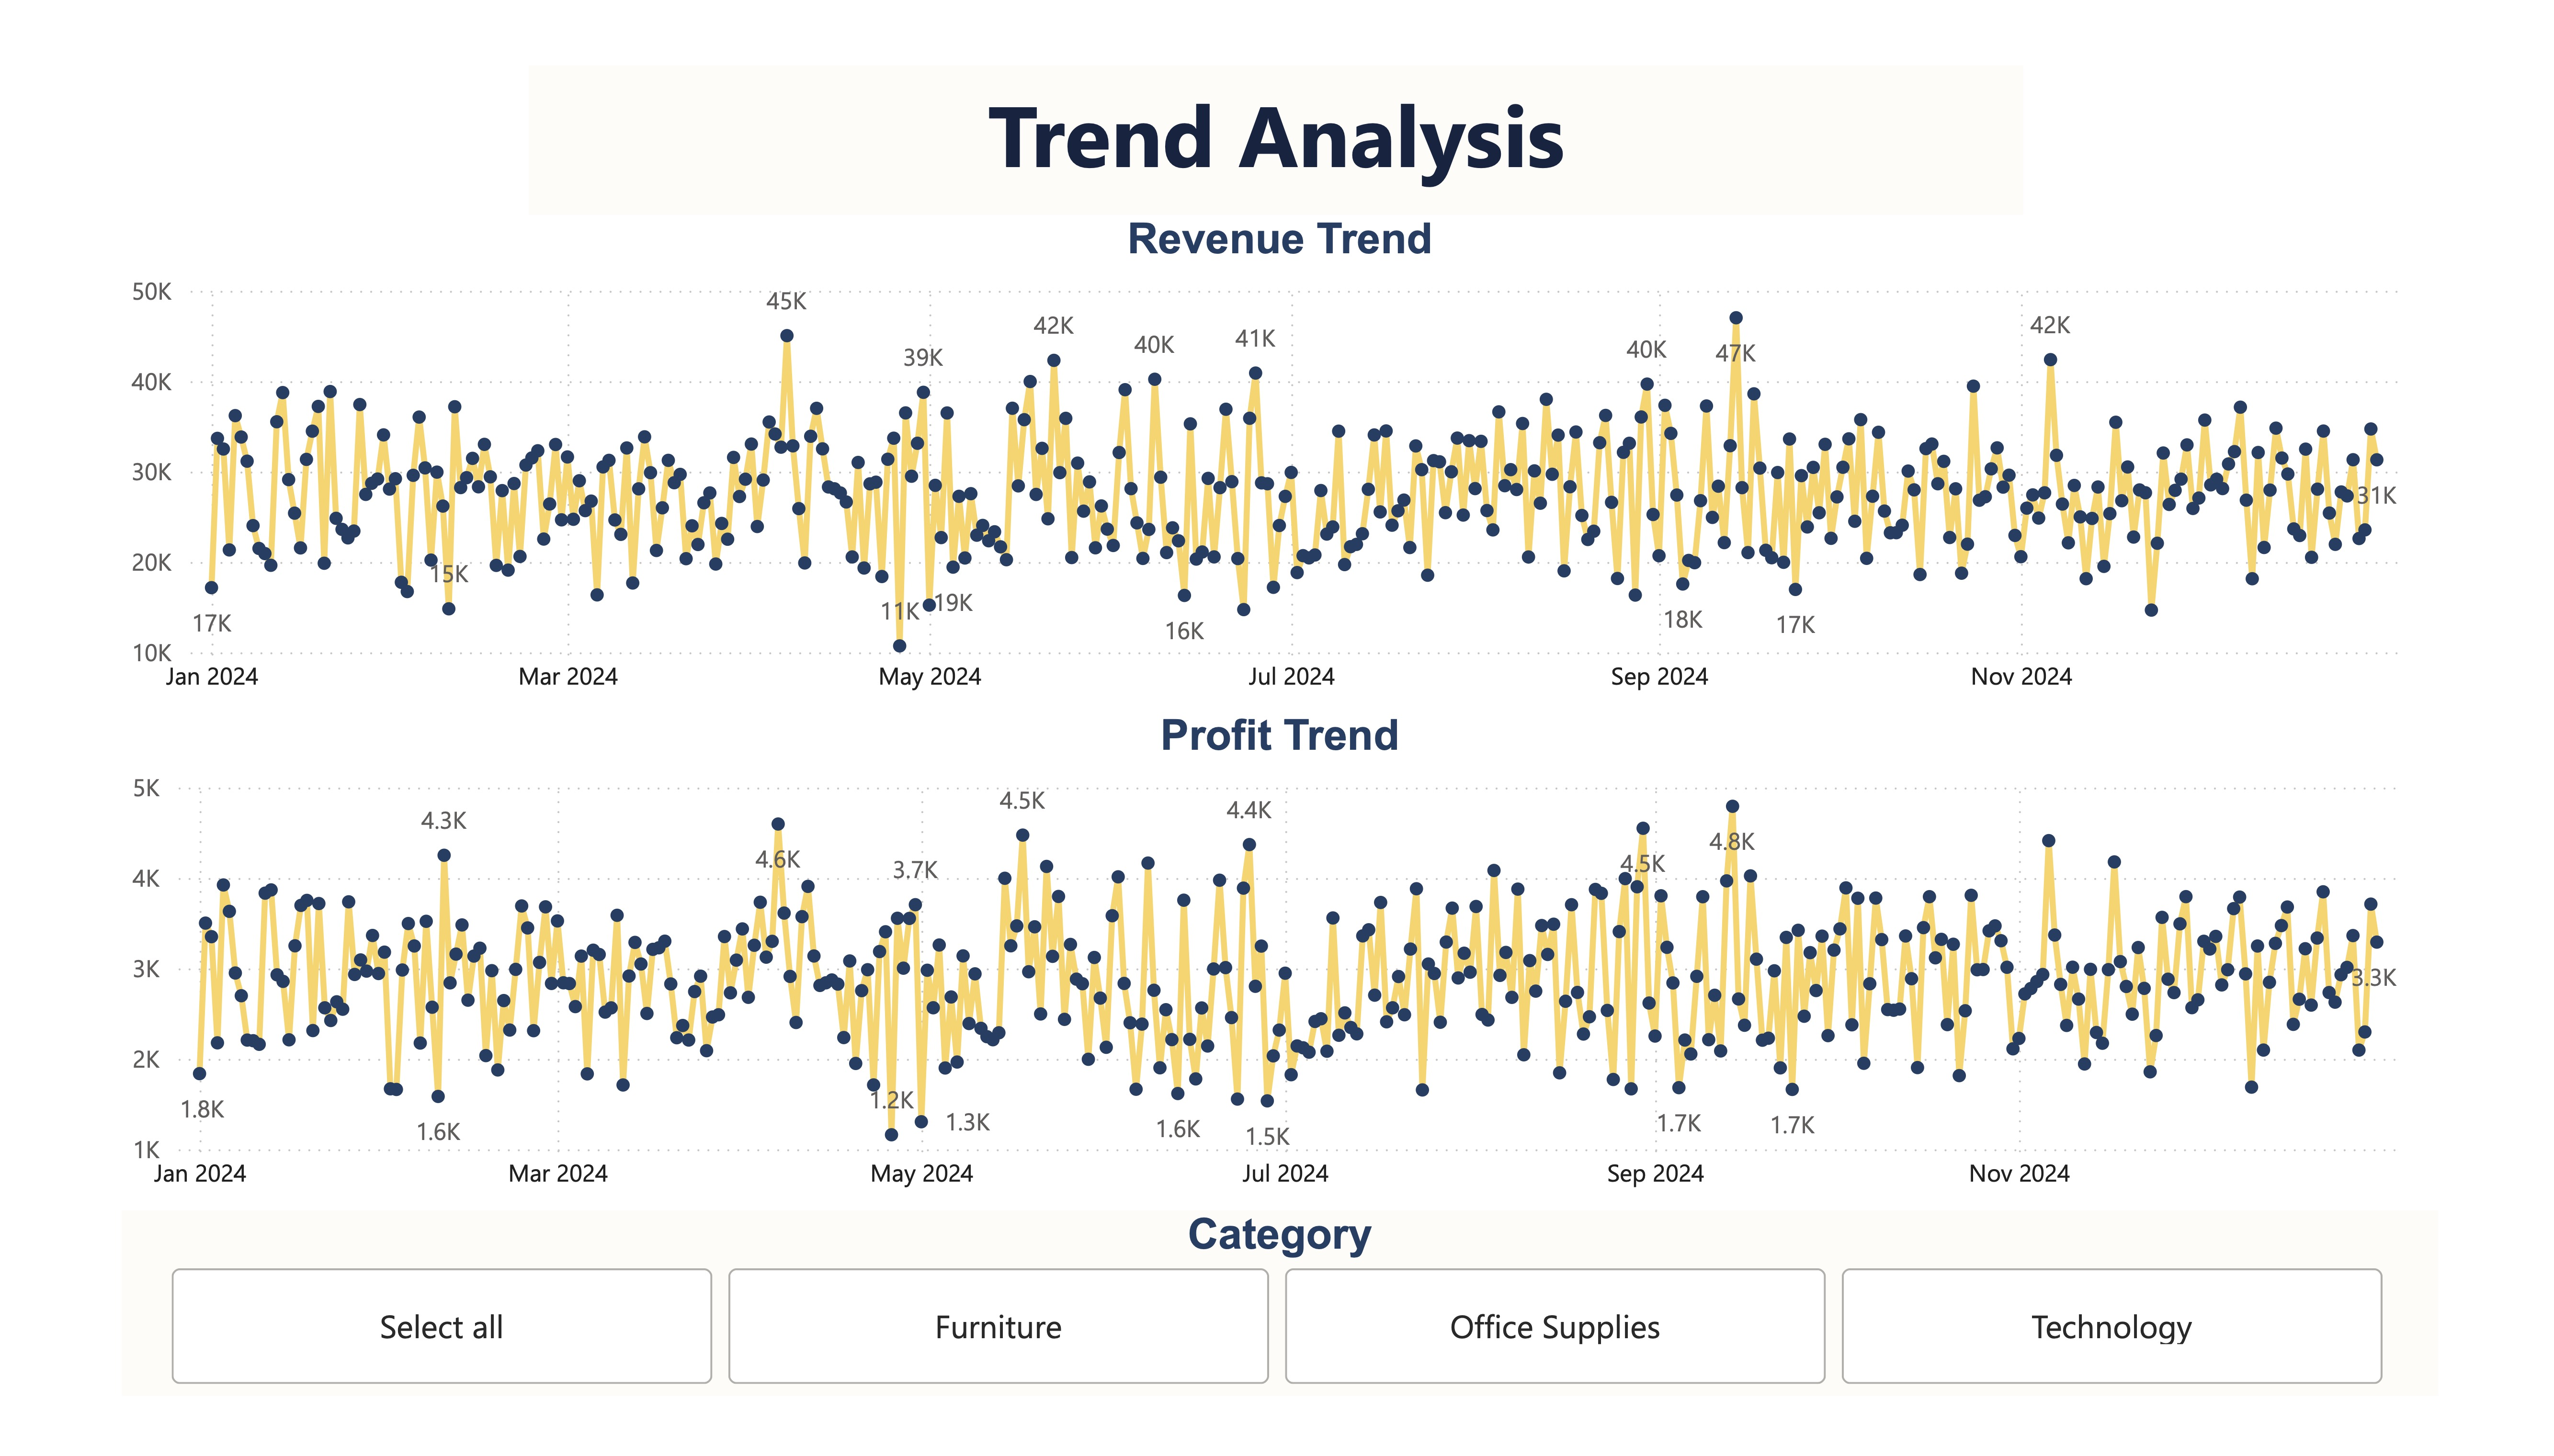

The page's visual inventory and layout, read from the dashboard file:
{"tool":"powerbi","page":{"name":"Trend Analysis","canvas":[1280,720],"ordinal":2},"visuals":[{"type":"textbox","box":[265.3,27.5,749.4,75.4],"z":0},{"type":"lineChart","title":"Revenue Trend","fields":{"Y":["Sum(superstore_sample_large 1.Sales)"],"Category":["superstore_sample_large 1.Order Date.Variation.Date Hierarchy.Year","superstore_sample_large 1.Order Date.Variation.Date Hierarchy.Quarter","superstore_sample_large 1.Order Date.Variation.Date Hierarchy.Month","superstore_sample_large 1.Order Date.Variation.Date Hierarchy.Day"]},"box":[60.9,102.9,1161.1,249.3],"z":1000},{"type":"lineChart","title":"Profit Trend","fields":{"Category":["superstore_sample_large 1.Order Date.Variation.Date Hierarchy.Year","superstore_sample_large 1.Order Date.Variation.Date Hierarchy.Quarter","superstore_sample_large 1.Order Date.Variation.Date Hierarchy.Month","superstore_sample_large 1.Order Date.Variation.Date Hierarchy.Day"],"Y":["Sum(superstore_sample_large 1.Profit)"]},"box":[60.9,352.3,1161.1,249.3],"z":2000},{"type":"advancedSlicerVisual","fields":{"Values":["superstore_sample_large 1.Category"]},"box":[60.9,601.6,1161.1,92.8],"z":3000}]}

Visuals, with their boxes in screenshot pixels (x1, y1, x2, y2), scaled from the page's 1280x720 canvas onto the 2554x1456 screenshot:
textbox: crop(529, 56, 2025, 208)
"Revenue Trend" lineChart: crop(122, 208, 2438, 712)
"Profit Trend" lineChart: crop(122, 712, 2438, 1217)
advancedSlicerVisual - superstore_sample_large 1.Category: crop(122, 1217, 2438, 1404)
